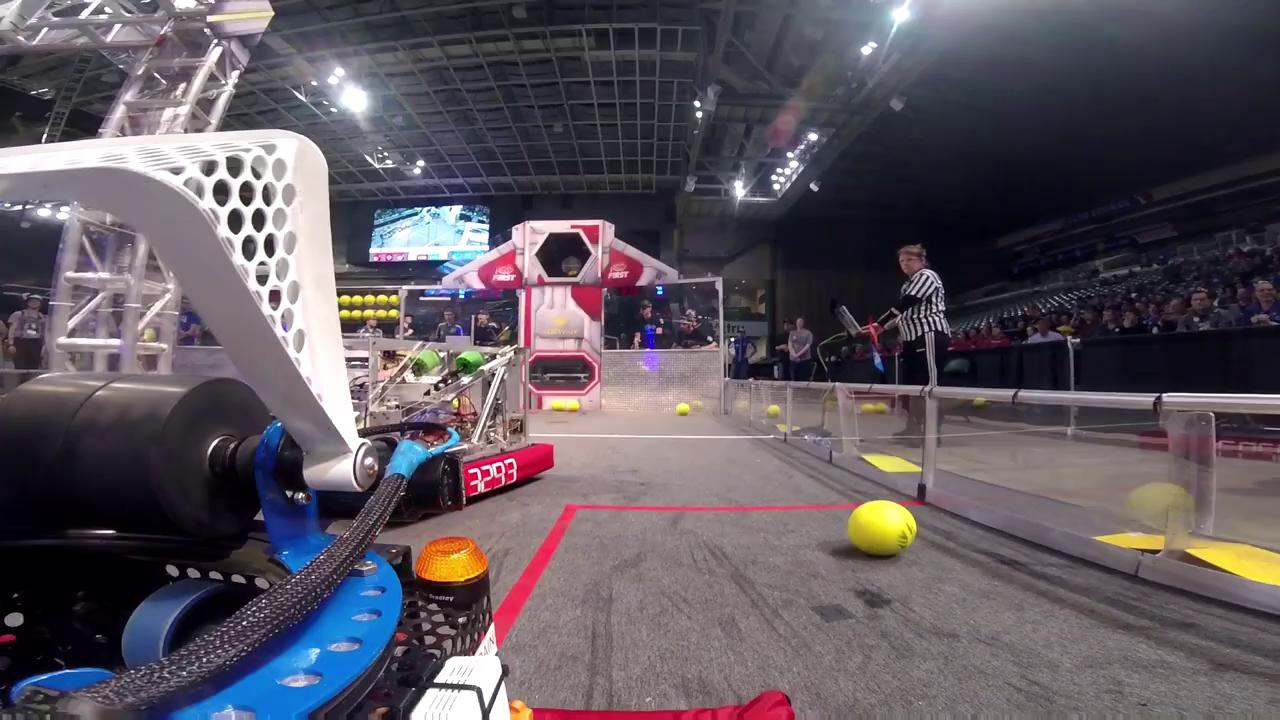robot: (353, 334, 559, 504)
